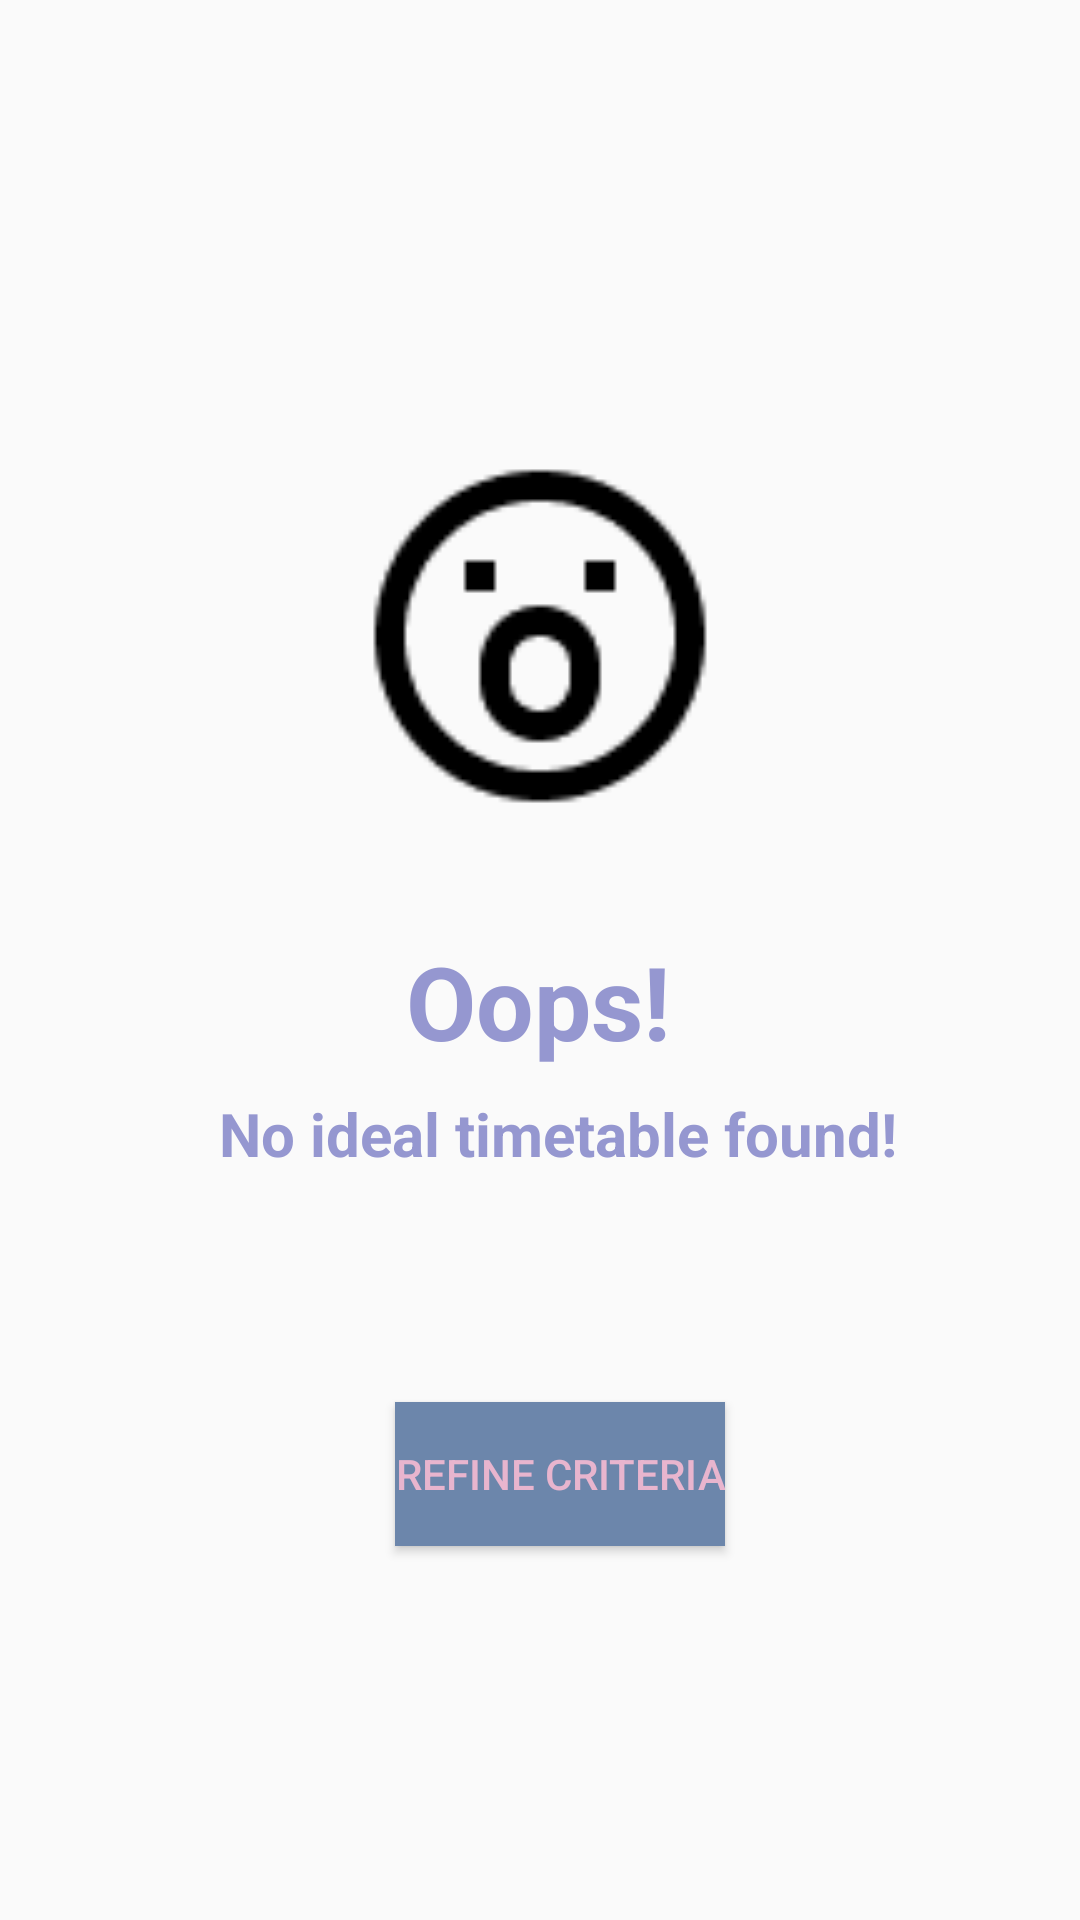

Icon click points for this 1080px×1920px phone screenshot, format (x=x, y=y):
shocked: (x=540, y=636)
